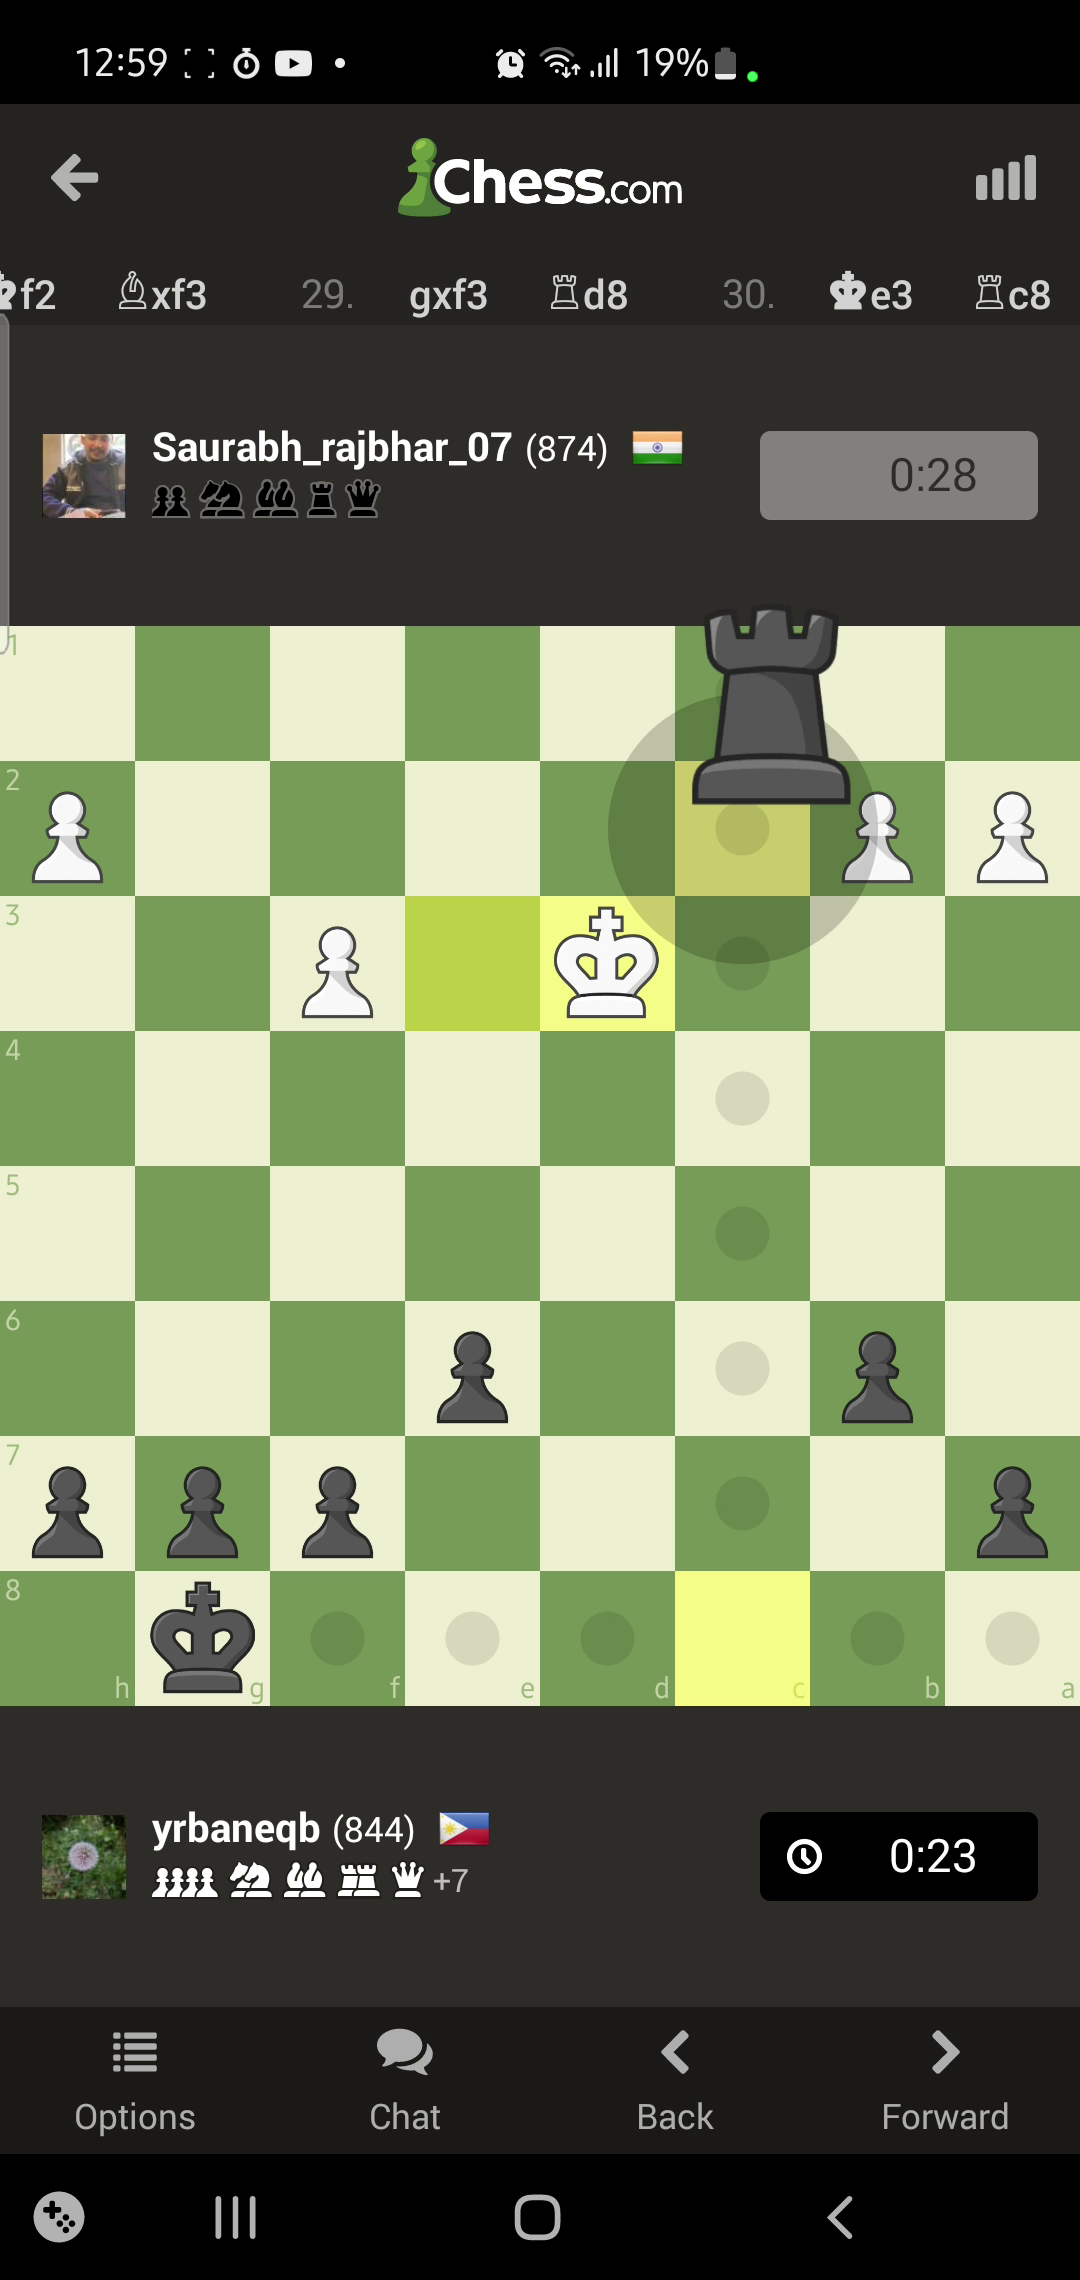king: (150, 1581, 257, 1690), (552, 906, 657, 1018)
